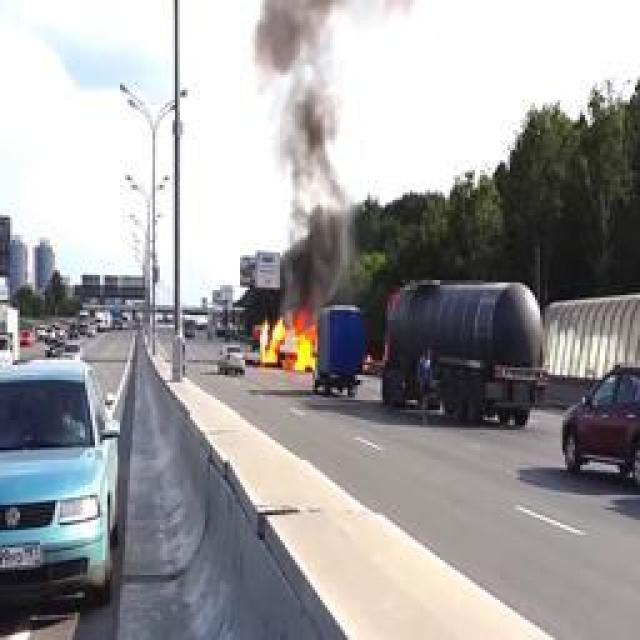Fire: (259, 310, 319, 372)
